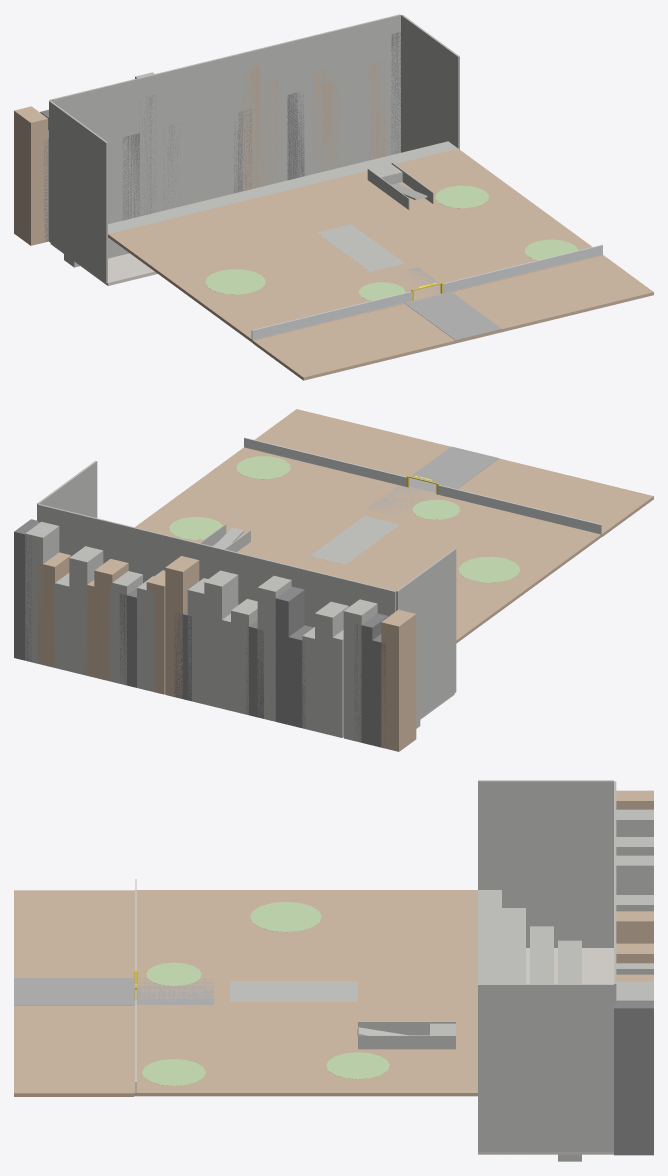
The model's file is yard.glb.
3 views of the same model, one above another, from view 1: azimuth 30°, elevation 25°; view 2: azimuth 150°, elevation 25°; view 3: azimuth 270°, elevation 25° (orthographic). The views are drawn at different scales.
Parts seen in each view (by area): view 1: yard_quarry, yard_ground, yard_perimeter, yard_slope; view 2: yard_quarry, yard_ground, yard_perimeter, yard_slope; view 3: yard_ground, yard_quarry, yard_slope.
Boxes of the visible parts, <box> form: yard_quarry: <box>14,14,459,285</box>; yard_ground: <box>108,148,653,380</box>; yard_perimeter: <box>251,245,602,339</box>; yard_slope: <box>367,162,433,209</box>; yard_quarry: <box>14,460,456,751</box>; yard_ground: <box>135,409,653,643</box>; yard_perimeter: <box>244,437,601,534</box>; yard_slope: <box>199,524,250,552</box>; yard_ground: <box>14,890,477,1096</box>; yard_quarry: <box>478,780,653,1161</box>; yard_slope: <box>357,1021,455,1049</box>.
Bounding box in the file's own units: 129 × 49 × 160.
